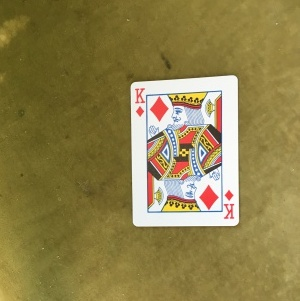card: (128, 73, 241, 228)
